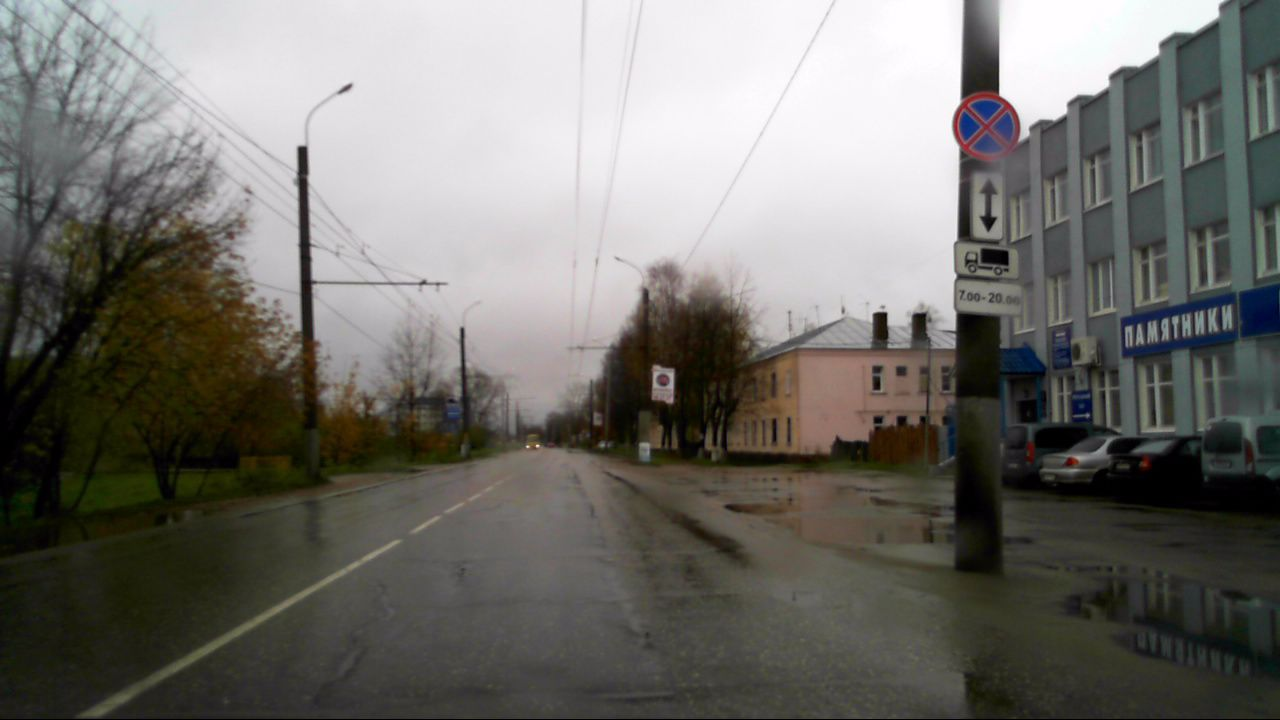No Parking: (952, 92, 1020, 164)
